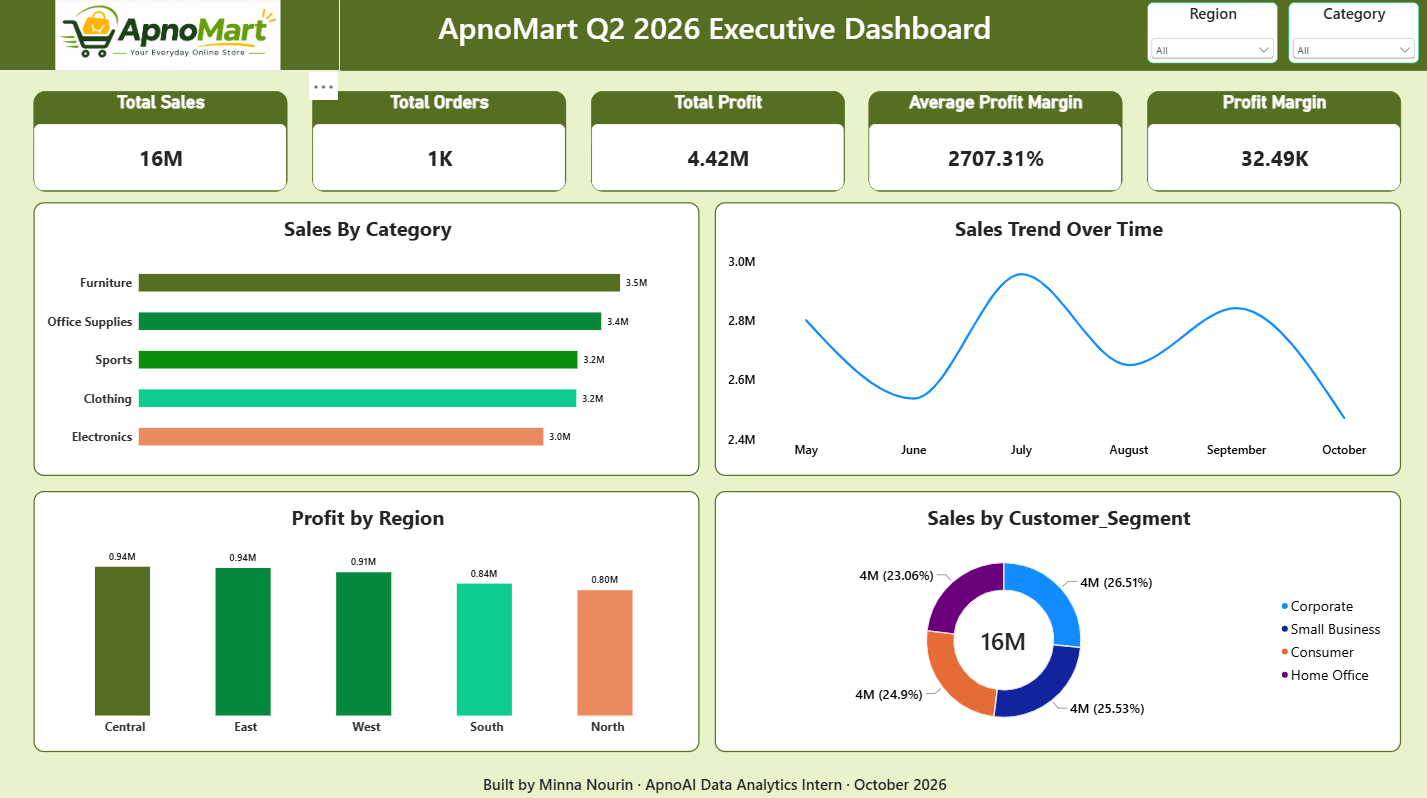

This screenshot's page, from the dashboard's own definition file:
{"tool":"powerbi","page":{"name":"Page 1","canvas":[1920,1080],"ordinal":0},"visuals":[{"type":"cardVisual","title":"Total Sales","fields":{"Data":["apnomart-sales-data.Total Sales"]},"box":[50.1,126.9,339,134.3],"z":0},{"type":"cardVisual","title":"Total Orders","fields":{"Data":["apnomart-sales-data.Total Orders"]},"box":[422,126.9,339,134.3],"z":1000},{"type":"cardVisual","title":"Total Profit","fields":{"Data":["apnomart-sales-data.Total Profit"]},"box":[794,126.9,339,134.3],"z":2000},{"type":"cardVisual","title":"Average Profit Margin","fields":{"Data":["apnomart-sales-data.Average Profit Margin"]},"box":[1165.9,126.9,339,134.3],"z":3000},{"type":"cardVisual","title":"Profit Margin","fields":{"Data":["Sum(apnomart-sales-data.Profit_Margin)"]},"box":[1537.9,126.9,339,134.3],"z":4000},{"type":"textbox","title":"ApnoMart Q2 2026 Executive Dashboard","box":[0,8.7,1920.4,101.2],"z":5000},{"type":"image","box":[0,0,458.7,101.2],"z":6000},{"type":"barChart","title":"Sales By Category","fields":{"Category":["apnomart-sales-data.Category"],"Y":["apnomart-sales-data.Total Sales"]},"box":[50.1,275.5,890,365.7],"z":7000},{"type":"lineChart","title":"Sales Trend Over Time","fields":{"Category":["apnomart-sales-data.Order_Date.Variation.Date Hierarchy.Month"],"Y":["apnomart-sales-data.Total Sales"]},"box":[960.1,275.5,916.7,365.7],"z":7001},{"type":"clusteredColumnChart","title":"Profit by Region","fields":{"Category":["apnomart-sales-data.Region"],"Y":["apnomart-sales-data.Total Profit"]},"box":[50.1,661.2,890,349],"z":7002},{"type":"donutChart","title":"Sales by Customer_Segment","fields":{"Category":["apnomart-sales-data.Customer_Segment"],"Y":["apnomart-sales-data.Total Sales"]},"box":[960.1,661.2,916.7,349],"z":7003},{"type":"actionButton","box":[0,0,100,40],"z":7005},{"type":"slicer","title":"Region","fields":{"Values":["apnomart-sales-data.Region"]},"box":[1550.6,19.2,174.4,82],"z":7006},{"type":"slicer","title":"Category","fields":{"Values":["apnomart-sales-data.Category"]},"box":[1737.2,19.2,174.4,82],"z":7007},{"type":"textbox","title":"Built by Minna Nourin · ApnoAI Data Analytics Intern · October 2026","box":[0,1038.6,1920.2,41.7],"z":7008}]}

Visuals, with their boxes in screenshot pixels (x1, y1, x2, y2), scaled from the page's 1920x1080 canvas onto the 1427x798 screenshot:
"Total Sales" cardVisual: {"x1": 37, "y1": 94, "x2": 289, "y2": 193}
"Total Orders" cardVisual: {"x1": 314, "y1": 94, "x2": 566, "y2": 193}
"Total Profit" cardVisual: {"x1": 590, "y1": 94, "x2": 842, "y2": 193}
"Average Profit Margin" cardVisual: {"x1": 867, "y1": 94, "x2": 1118, "y2": 193}
"Profit Margin" cardVisual: {"x1": 1143, "y1": 94, "x2": 1395, "y2": 193}
"ApnoMart Q2 2026 Executive Dashboard" textbox: {"x1": 0, "y1": 6, "x2": 1426, "y2": 81}
image: {"x1": 0, "y1": 0, "x2": 341, "y2": 75}
"Sales By Category" barChart: {"x1": 37, "y1": 204, "x2": 699, "y2": 474}
"Sales Trend Over Time" lineChart: {"x1": 714, "y1": 204, "x2": 1395, "y2": 474}
"Profit by Region" clusteredColumnChart: {"x1": 37, "y1": 489, "x2": 699, "y2": 746}
"Sales by Customer_Segment" donutChart: {"x1": 714, "y1": 489, "x2": 1395, "y2": 746}
actionButton: {"x1": 0, "y1": 0, "x2": 74, "y2": 30}
"Region" slicer: {"x1": 1152, "y1": 14, "x2": 1282, "y2": 75}
"Category" slicer: {"x1": 1291, "y1": 14, "x2": 1421, "y2": 75}
"Built by Minna Nourin · ApnoAI Data Analytics Intern · October 2026" textbox: {"x1": 0, "y1": 767, "x2": 1426, "y2": 797}
